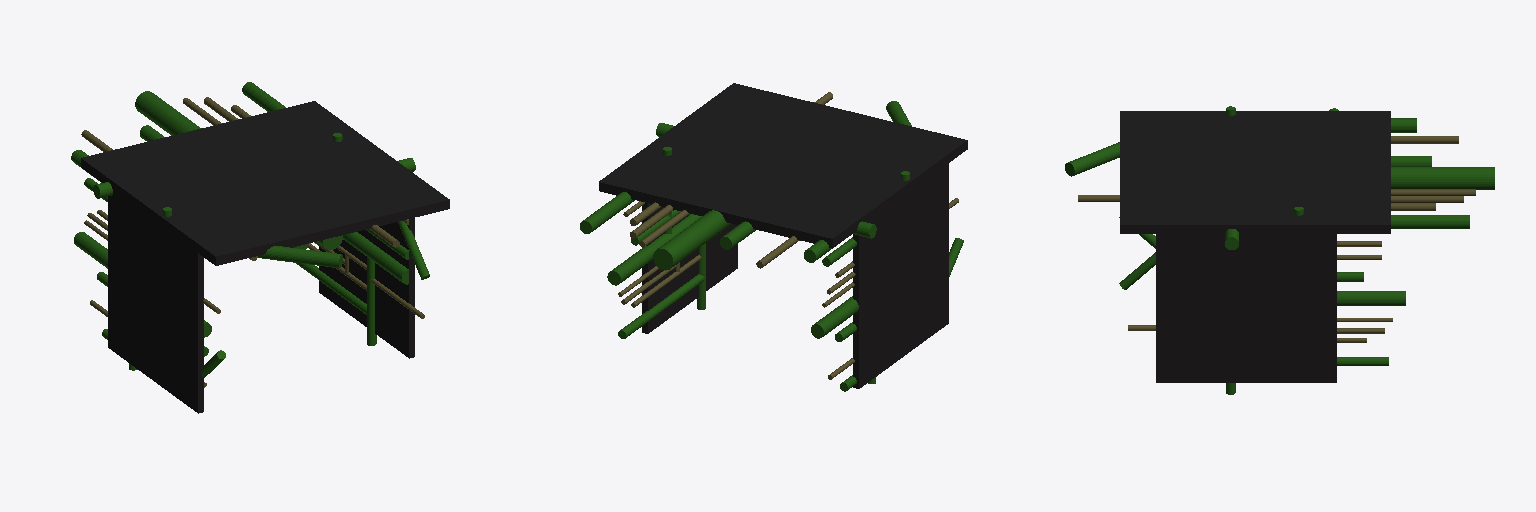
3 views of the same model, side by side, from view 1: azimuth 30°, elevation 25°; view 2: azimuth 150°, elevation 25°; view 3: azimuth 270°, elevation 25° (orthographic).
Visible parts, largest first — view 1: 円柱.003, 円柱.001, 円柱.002; view 2: 円柱.003, 円柱.001, 円柱.002; view 3: 円柱.003, 円柱.002.
Part boxes in pixels (x1,y1,x2,y2): 円柱.003: (71, 82, 449, 267); 円柱.001: (74, 178, 225, 413); 円柱.002: (296, 133, 429, 358); 円柱.003: (580, 83, 967, 270); 円柱.001: (811, 163, 963, 391); 円柱.002: (607, 147, 737, 338); 円柱.003: (1065, 108, 1494, 249); 円柱.002: (1119, 207, 1405, 394).
Bounding box in the file's own units: 54.53 × 36.44 × 76.92.
3 materials, 1 textured.